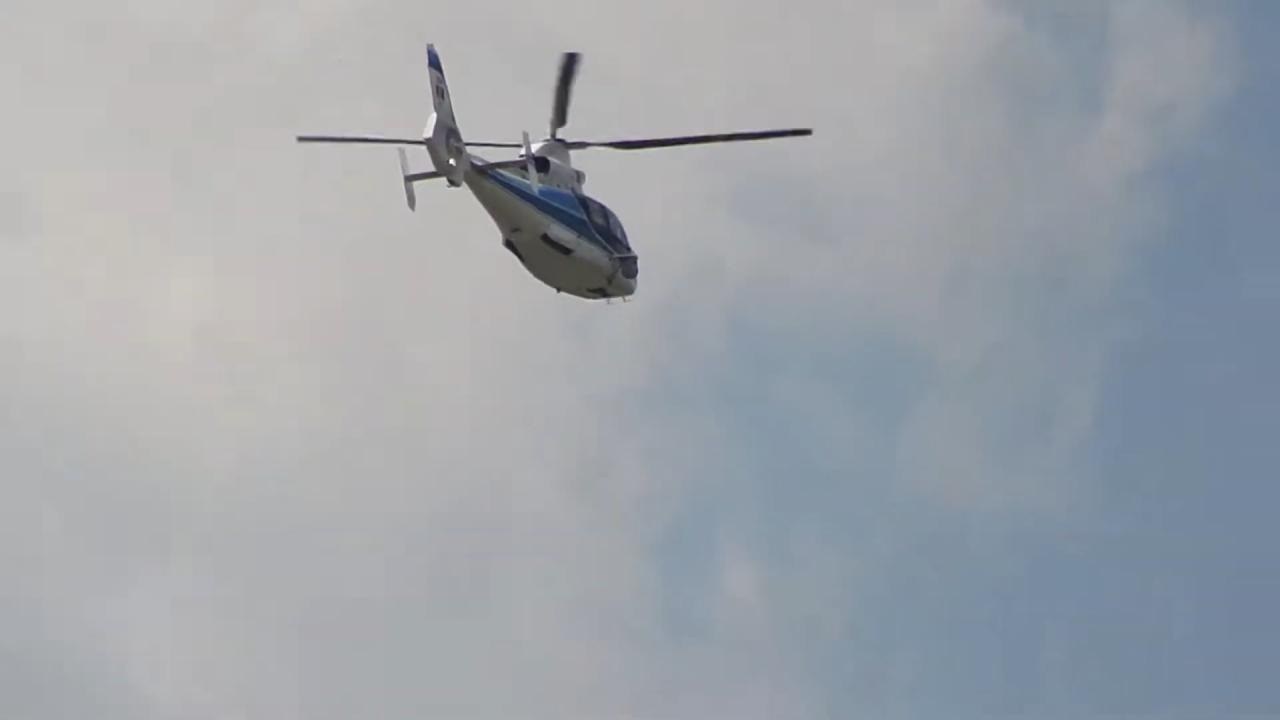Helicopter: (281, 21, 825, 319)
